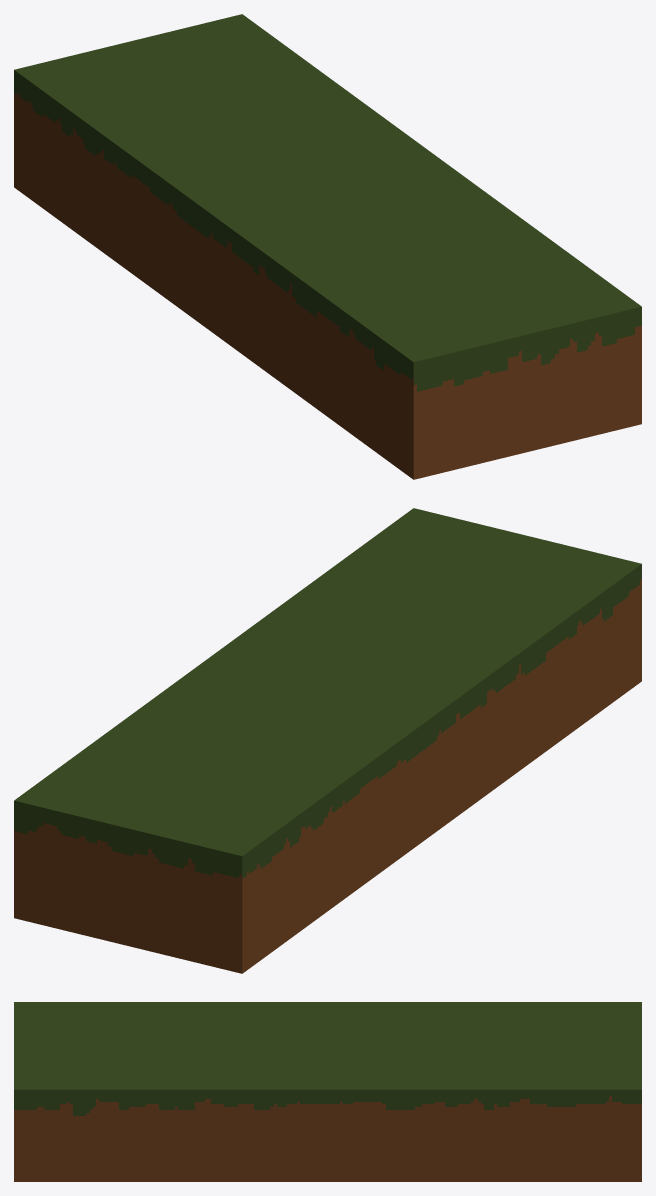
Rendered from grasspatch.glb.
3 renders of one model, top to bottom at view 1: azimuth 30°, elevation 25°; view 2: azimuth 150°, elevation 25°; view 3: azimuth 270°, elevation 25°, orthographic. The views are drawn at different scales.
Parts seen in each view (by area): view 1: ground; view 2: ground; view 3: ground.
Boxes of the visible parts, box(x1,y1,x2,y2) form: ground: box(14, 14, 641, 479); ground: box(14, 508, 641, 973); ground: box(14, 1002, 641, 1181).
Size of the model in its own units: 3.94 by 1.94 by 11.94.
Materials: 1 (1 with a texture image).
